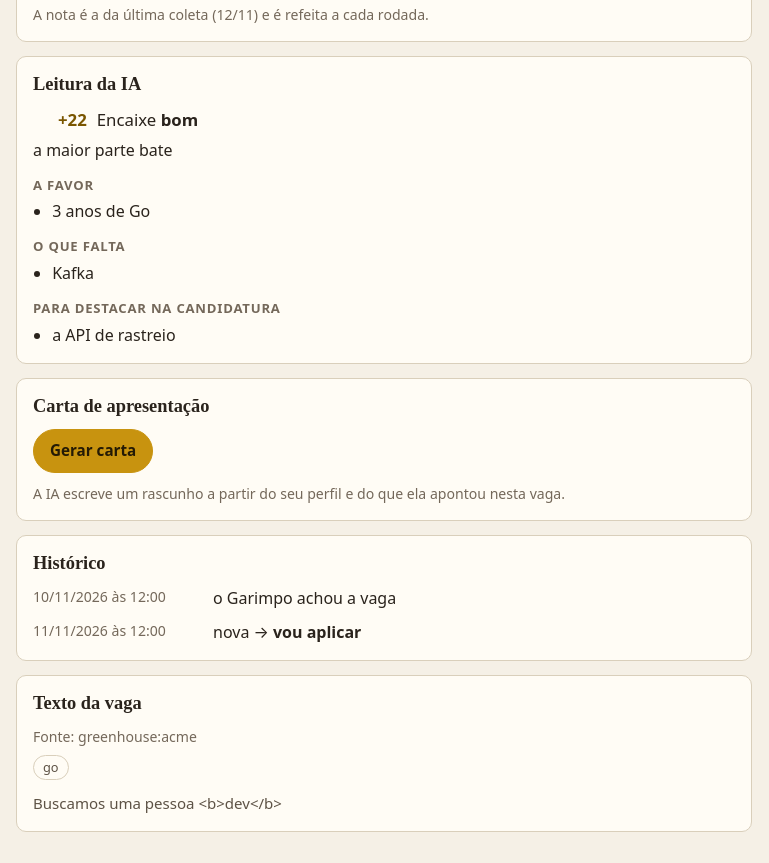
Test: the posting › keeps the draft when writing another one fails
The width and height of the screenshot is (769, 863).
(page scrolled)
Click the button "Gerar carta".
click(93, 451)  # box left=33, top=429, right=153, bottom=473
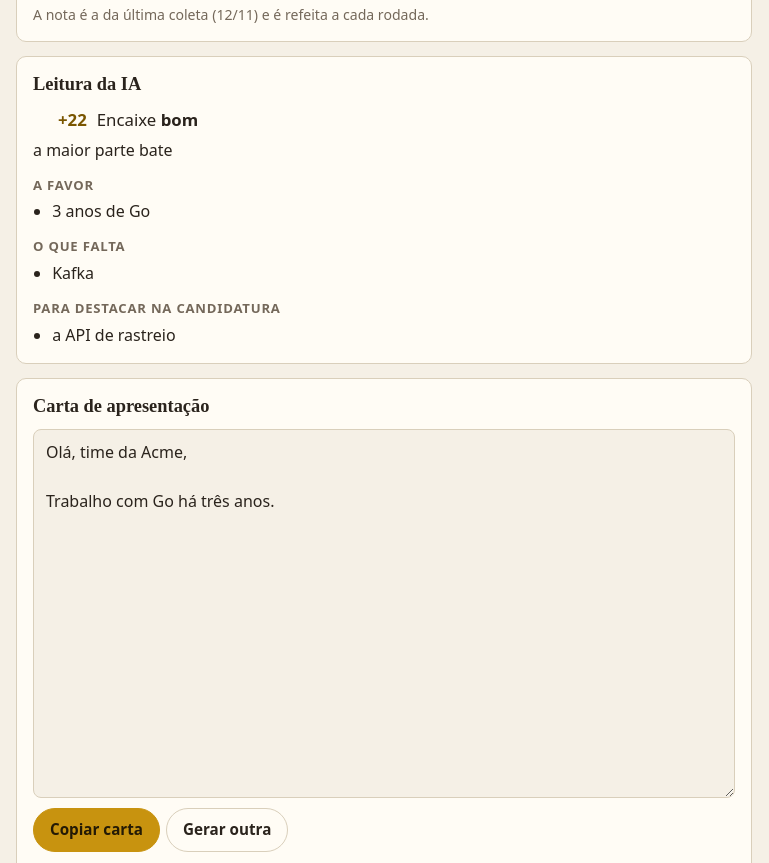
Click the button "Gerar outra".
click(227, 830)  # box left=166, top=808, right=288, bottom=852
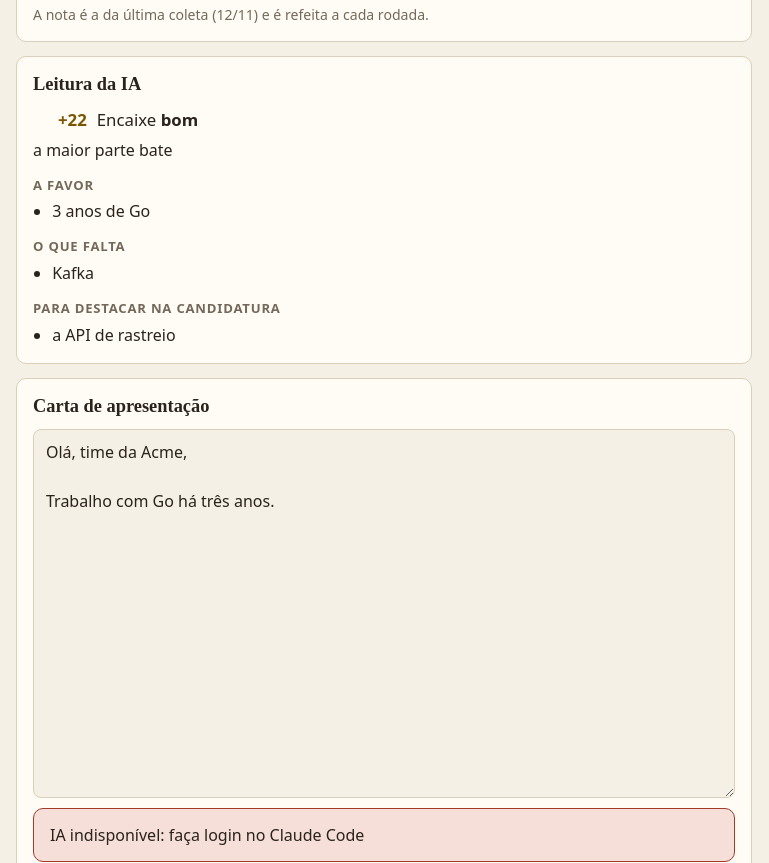
Expected: the message shows "faça login no Claude Code", left=50, top=824, right=364, bottom=846
